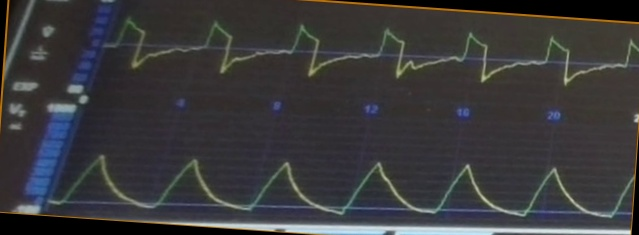Premature_cycling Flow: (111, 14, 638, 88)
Premature_cycling Volume: (58, 150, 630, 219)
